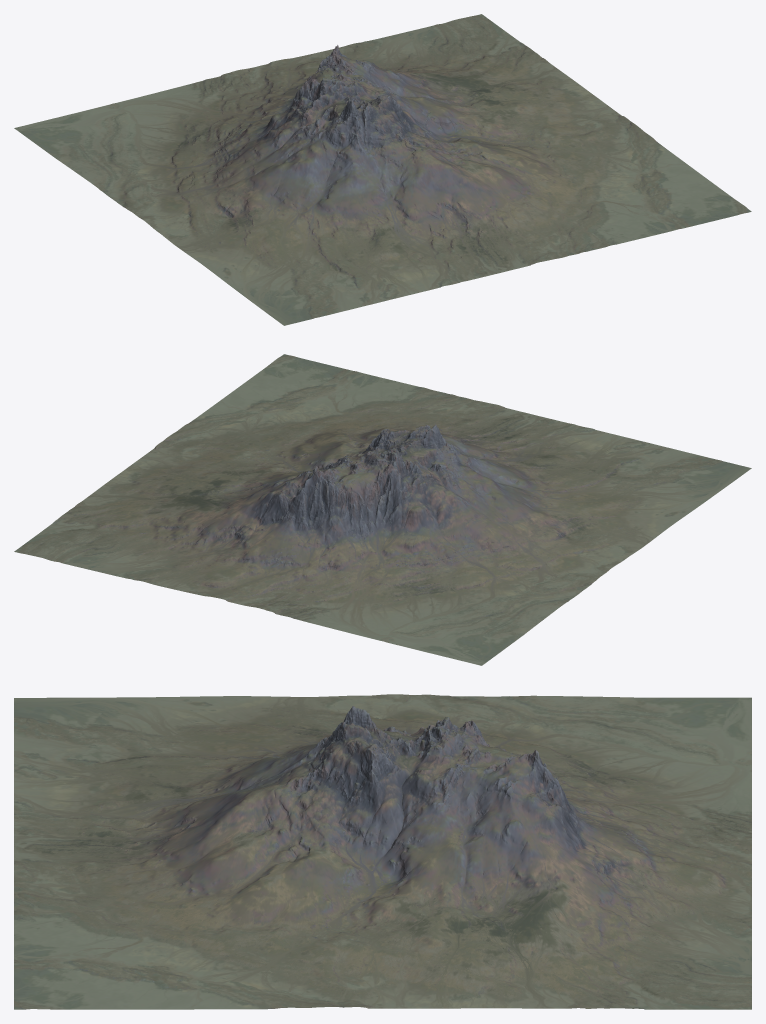
3 renders of one model, top to bottom at view 1: azimuth 30°, elevation 25°; view 2: azimuth 150°, elevation 25°; view 3: azimuth 270°, elevation 25°, orthographic. The views are drawn at different scales.
Visible parts, largest first — view 1: Landscape.001; view 2: Landscape.001; view 3: Landscape.001.
Boxes of the visible parts, <box> form: Landscape.001: <box>14,14,751,325</box>; Landscape.001: <box>14,354,751,665</box>; Landscape.001: <box>14,694,751,1009</box>.
Bounding box in the file's own units: 1653 × 297 × 1653.
1 material, 1 textured.
